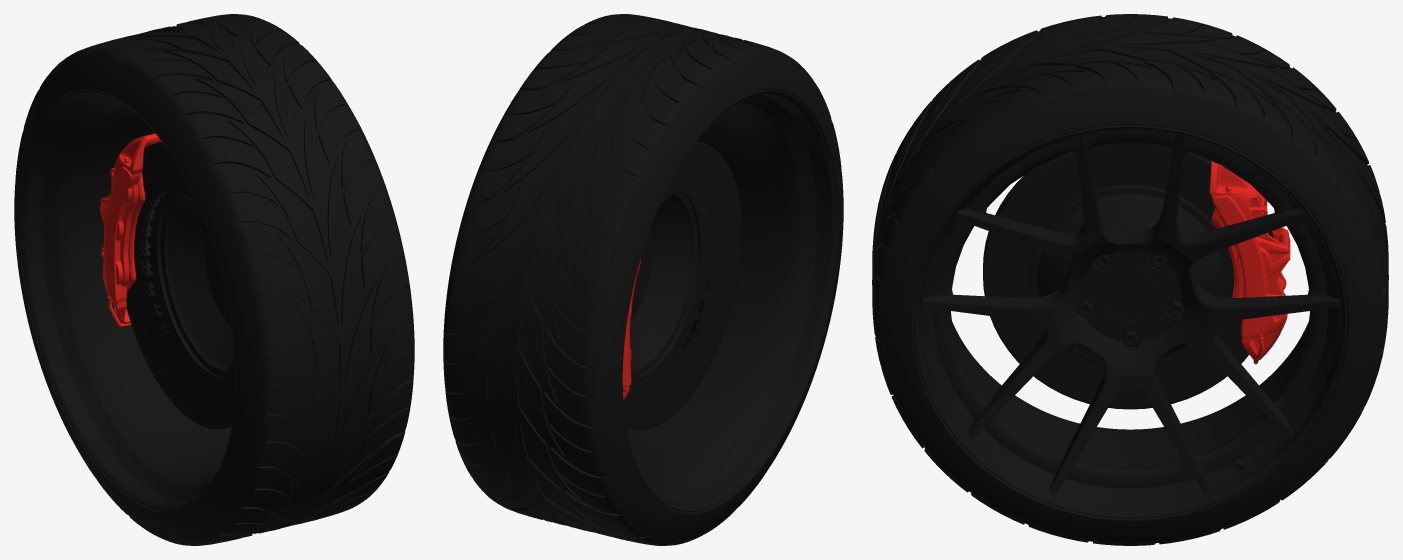
File: wheel.fbx
3 views of the same model, side by side, from view 1: azimuth 30°, elevation 25°; view 2: azimuth 150°, elevation 25°; view 3: azimuth 270°, elevation 25° (orthographic).
Visible parts, largest first — view 1: RL.001; view 2: RL.001; view 3: RL.001.
Part boxes in pixels (box(x1,y1,x2,y2)): RL.001: box(14, 14, 414, 545); RL.001: box(443, 14, 843, 545); RL.001: box(872, 14, 1388, 545).
Size of the model in its own units: 38.89 by 99.7 by 99.7.
